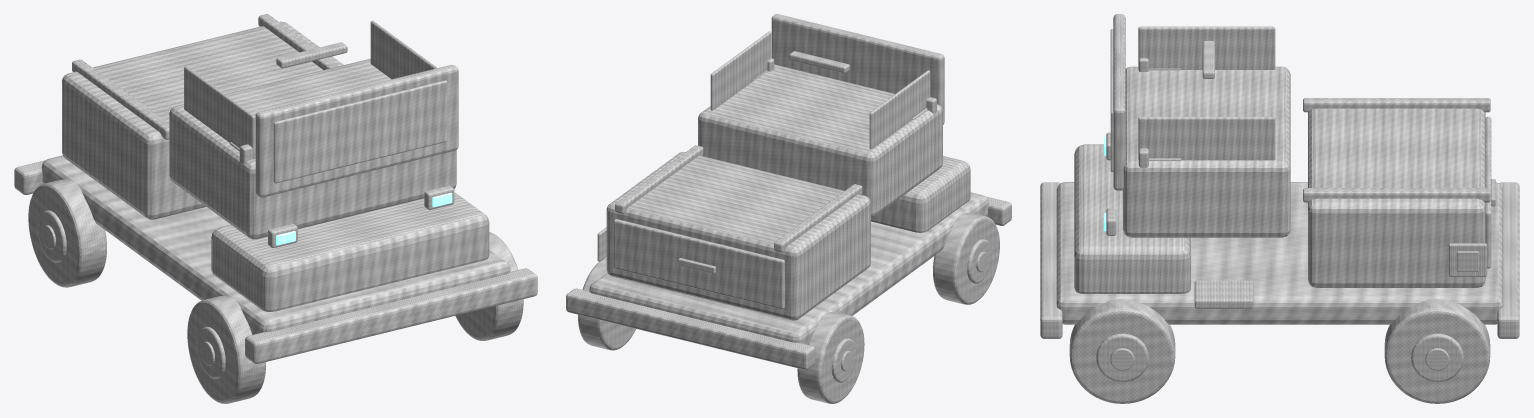
File: tractor_variant_a.glb
The picture shows the model from 3 angles, left to right: view 1: azimuth 30°, elevation 25°; view 2: azimuth 150°, elevation 25°; view 3: azimuth 270°, elevation 25°; orthographic projection. The views are drawn at different scales.
Parts seen in each view (by area): view 1: Rear cargo body, Lower engine cover, Cabin lower shell, Ladder chassis, Windshield glass, Front bumper, Windshield frame, All-terrain tire.002, All-terrain tire.001, Cab side window.001, All-terrain tire.003, Cab side window (+6 smaller); view 2: Rear cargo body, Cabin lower shell, Ladder chassis, Rear cargo hatch, Windshield frame, Rear bumper, Lower engine cover, All-terrain tire.001, All-terrain tire.002, Cab side window, Cab side window.001, All-terrain tire.004 (+6 smaller); view 3: Rear cargo body, Cabin lower shell, Ladder chassis, Lower engine cover, All-terrain tire.003, All-terrain tire.004, Cab side window, Cab side window.001, Front bumper, Rear bumper, Windshield frame, Cargo side rail.002 (+11 smaller).
Boxes of the visible parts, x1=… form: Rear cargo body: x1=62, y1=21, x2=343, y2=219; Lower engine cover: x1=211, y1=192, x2=489, y2=311; Cabin lower shell: x1=169, y1=58, x2=456, y2=239; Ladder chassis: x1=41, y1=155, x2=510, y2=334; Windshield glass: x1=273, y1=80, x2=447, y2=183; Front bumper: x1=245, y1=268, x2=537, y2=363; Windshield frame: x1=255, y1=65, x2=458, y2=197; All-terrain tire.002: x1=28, y1=179, x2=106, y2=287; All-terrain tire.001: x1=187, y1=296, x2=265, y2=403; Cab side window.001: x1=184, y1=66, x2=255, y2=159; All-terrain tire.003: x1=455, y1=232, x2=523, y2=340; Cab side window: x1=370, y1=20, x2=437, y2=79; Rear cargo body: x1=606, y1=152, x2=870, y2=320; Cabin lower shell: x1=698, y1=64, x2=942, y2=217; Ladder chassis: x1=589, y1=192, x2=988, y2=344; Rear cargo hatch: x1=613, y1=219, x2=784, y2=309; Windshield frame: x1=771, y1=14, x2=944, y2=124; Rear bumper: x1=566, y1=288, x2=815, y2=369; Lower engine cover: x1=871, y1=156, x2=970, y2=232; All-terrain tire.001: x1=933, y1=212, x2=999, y2=304; All-terrain tire.002: x1=797, y1=312, x2=864, y2=403; Cab side window: x1=710, y1=31, x2=771, y2=110; Cab side window.001: x1=869, y1=70, x2=930, y2=149; All-terrain tire.004: x1=578, y1=258, x2=635, y2=350; Rear cargo body: x1=1308, y1=108, x2=1485, y2=287; Cabin lower shell: x1=1123, y1=66, x2=1290, y2=237; Ladder chassis: x1=1056, y1=182, x2=1503, y2=324; Lower engine cover: x1=1074, y1=144, x2=1190, y2=293; All-terrain tire.003: x1=1069, y1=298, x2=1175, y2=403; All-terrain tire.004: x1=1384, y1=298, x2=1490, y2=403; Cab side window: x1=1138, y1=117, x2=1275, y2=160; Cab side window.001: x1=1138, y1=26, x2=1275, y2=69; Front bumper: x1=1040, y1=182, x2=1062, y2=338; Rear bumper: x1=1497, y1=182, x2=1519, y2=338; Windshield frame: x1=1113, y1=14, x2=1125, y2=190; Cargo side rail.002: x1=1303, y1=188, x2=1490, y2=202.
Size of what is drawn, in the model's own units: 3.35 by 3.04 by 4.72.
7 materials, 7 textured.
